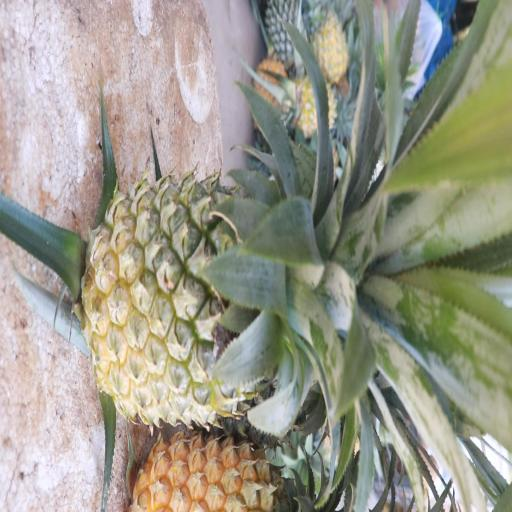------------------------------: (89, 178, 334, 427)
Pineapple - v8 v1: (306, 0, 349, 80)
